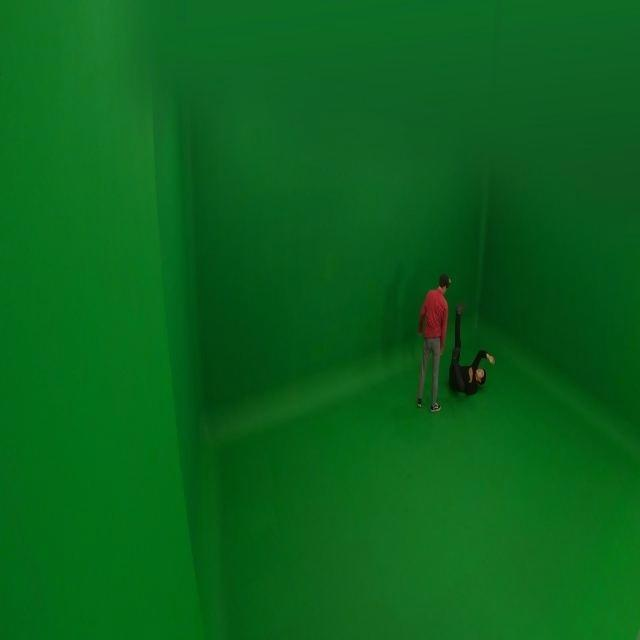fight: (414, 272, 497, 414)
